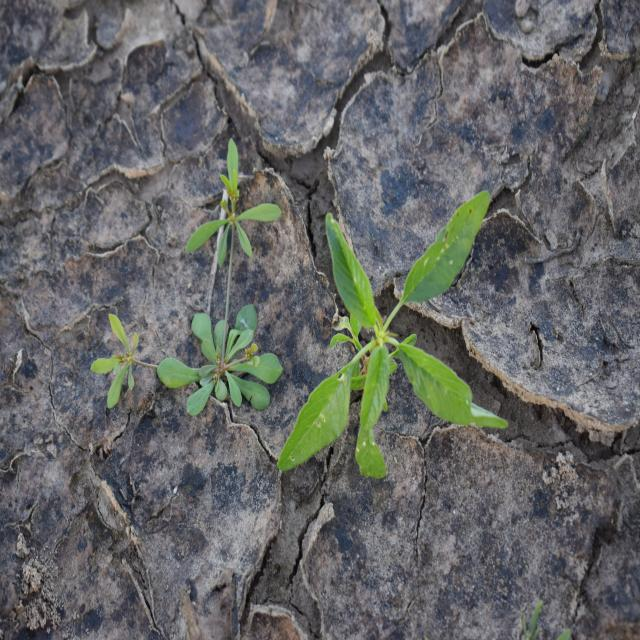Carpetweed: (89, 135, 285, 417)
Waterhemp: (276, 188, 510, 482)
